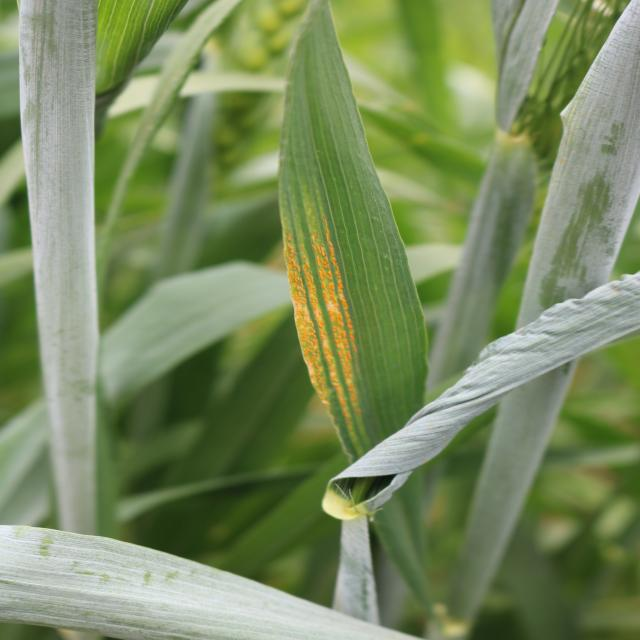Stripe Rust: (322, 326, 364, 412), (302, 237, 338, 327), (283, 234, 303, 312)
